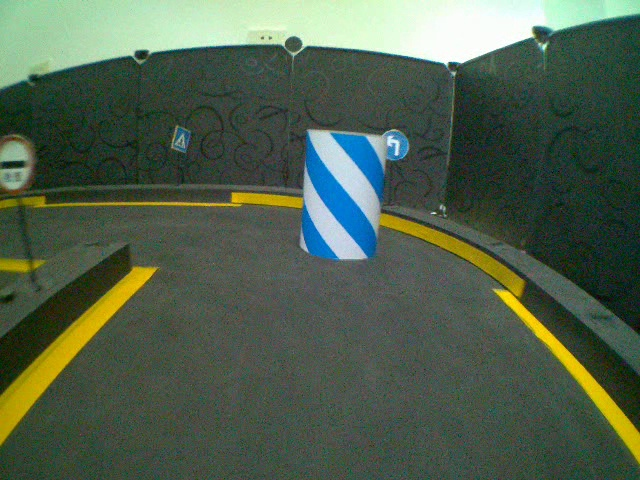bucket: (297, 129, 387, 261)
